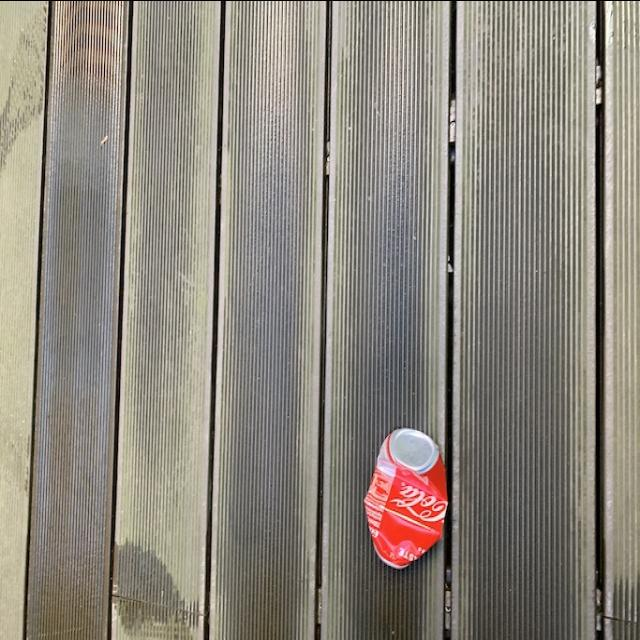Aluminum Can: (364, 422, 446, 572)
